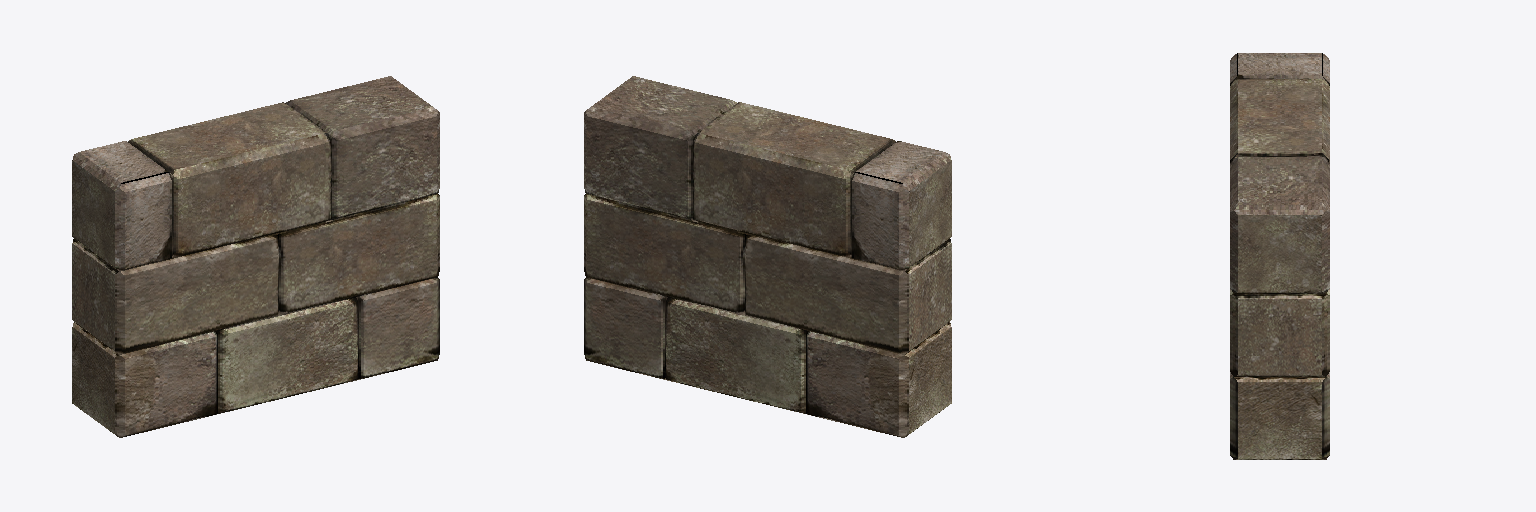
The picture shows the model from 3 angles: view 1: azimuth 30°, elevation 25°; view 2: azimuth 150°, elevation 25°; view 3: azimuth 270°, elevation 25°; orthographic projection.
Visible parts, largest first — view 1: Box002; view 2: Box002; view 3: Box002.
Boxes of the visible parts, <box> form: Box002: <box>72,76,439,437</box>; Box002: <box>584,76,951,437</box>; Box002: <box>1230,53,1329,459</box>.
Size of the model in its own units: 2.04 by 1.52 by 0.54.
Materials: 1 (1 with a texture image).